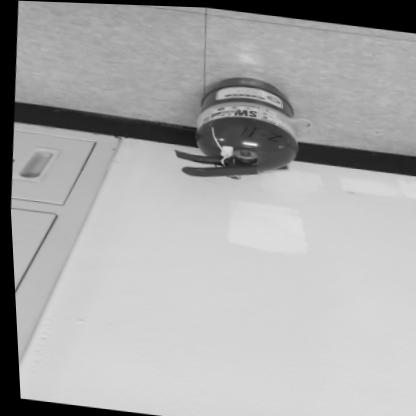FE: (170, 66, 301, 186)
